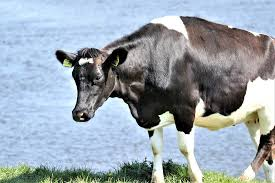waka: (52, 9, 275, 182)
